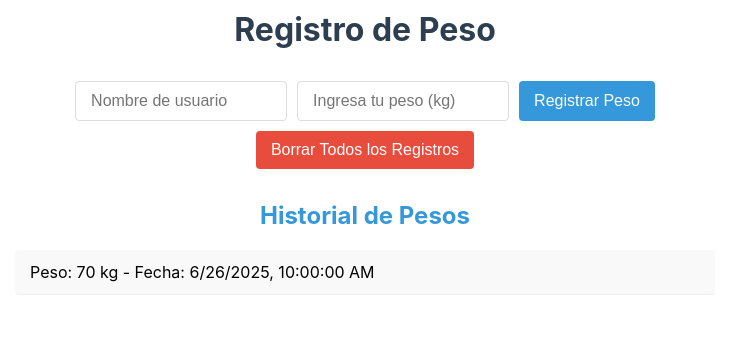
it: Componente App › Cumplimiento de la regla de 48 horas
In the number field with placeholder "Ingresa tu peso (kg)": (403, 101) [297,81,509,121], type "72"
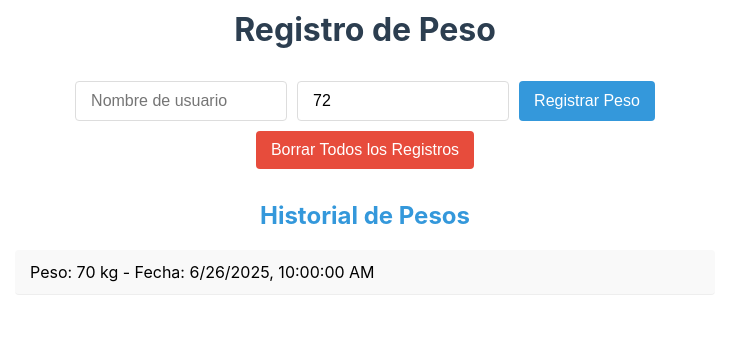
Click the button "Registrar Peso": (587, 101) [519,81,655,121]
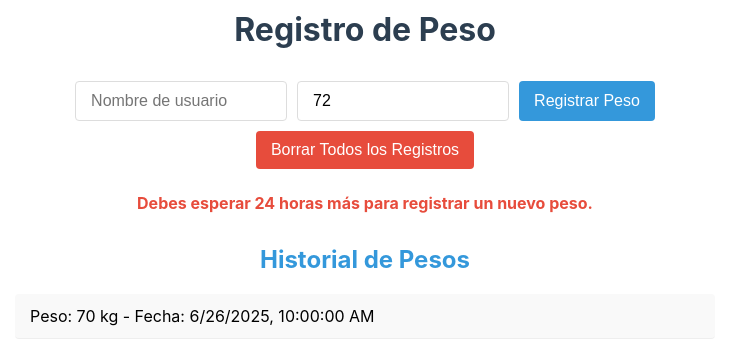
Expected: the text "Debes esperar 24 horas más para registrar un nuevo peso." is shown, [137,193,593,213]
